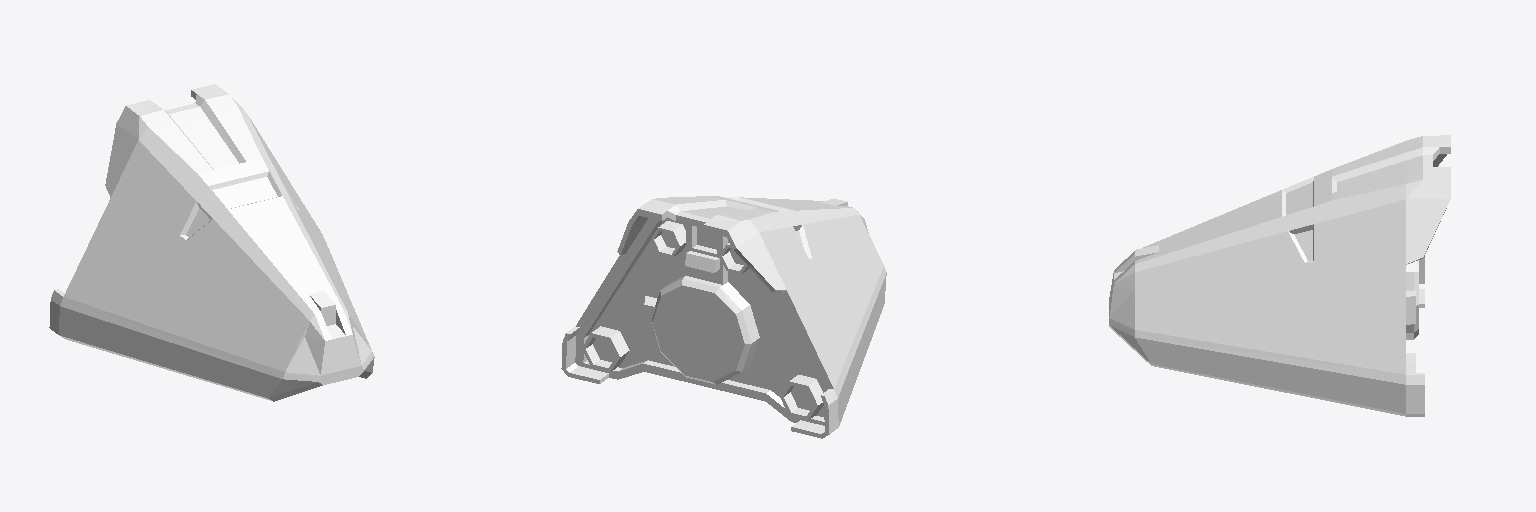
Rendered from oolite_worm.obj.
The picture shows the model from 3 angles: view 1: azimuth 30°, elevation 25°; view 2: azimuth 150°, elevation 25°; view 3: azimuth 270°, elevation 25°; orthographic projection.
Visible parts, largest first — view 1: griff_worm; view 2: griff_worm; view 3: griff_worm.
Boxes of the visible parts, <box> form: griff_worm: <box>49,84,374,401</box>; griff_worm: <box>561,196,886,438</box>; griff_worm: <box>1109,135,1450,416</box>.
Size of the model in its own units: 35.5 by 25 by 39.14.